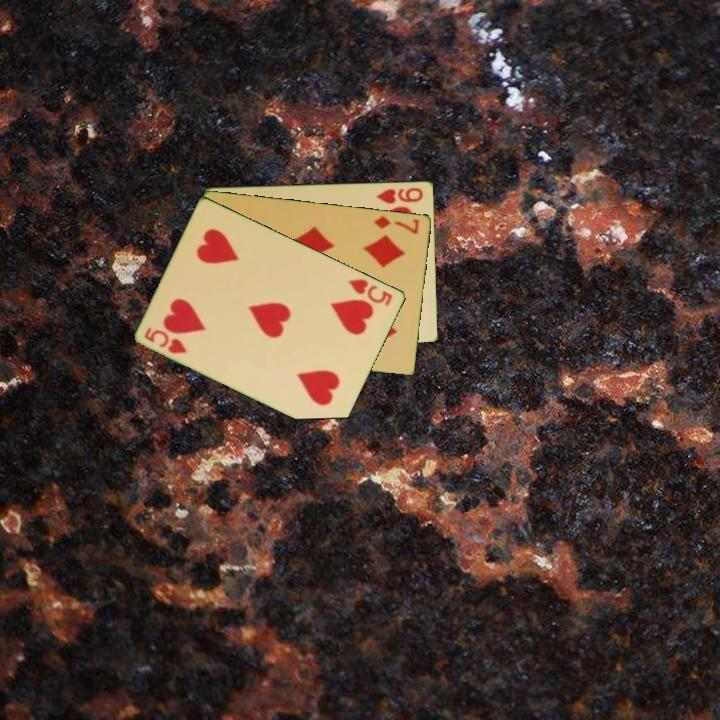5h: (346, 275, 396, 309), (141, 323, 190, 356)
7d: (371, 212, 422, 236)
9h: (373, 184, 426, 206)
